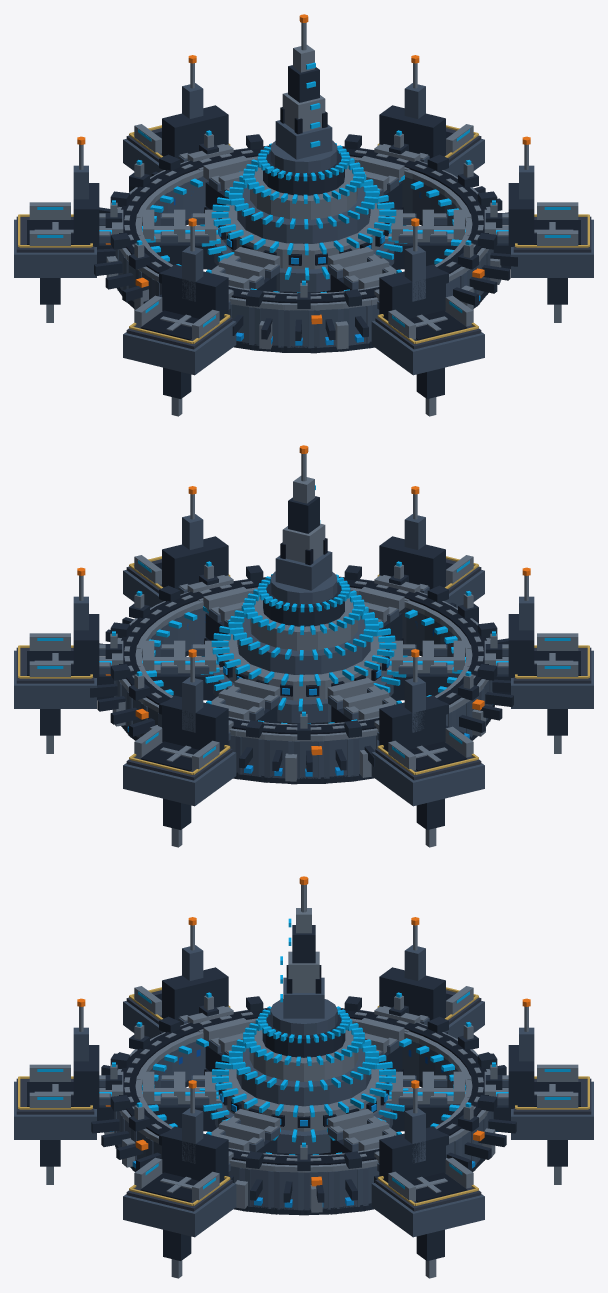
Rendered from Exoterium_Station_Detailed_120.obj.
3 views of the same model, one above another, from view 1: azimuth 30°, elevation 25°; view 2: azimuth 150°, elevation 25°; view 3: azimuth 270°, elevation 25° (orthographic).
Parts seen in each view (by area): view 1: StationPart_0745, StationPart_1045, StationPart_0503, StationPart_1054, StationPart_0754, StationPart_0504, StationPart_0874, StationPart_0934, StationPart_0502, StationPart_0985, StationPart_0805, StationPart_0505 (+45 smaller); view 2: StationPart_0925, StationPart_0985, StationPart_0503, StationPart_0994, StationPart_0934, StationPart_0504, StationPart_0754, StationPart_0814, StationPart_0502, StationPart_1045, StationPart_0865, StationPart_0707 (+44 smaller); view 3: StationPart_0805, StationPart_0865, StationPart_0503, StationPart_0814, StationPart_0874, StationPart_0504, StationPart_0994, StationPart_1054, StationPart_0502, StationPart_0745, StationPart_0925, StationPart_0505 (+44 smaller).
Part boxes in pixels (left/top/right/bottom): StationPart_0745: left=371, top=321, right=484, bottom=375; StationPart_1045: left=123, top=321, right=236, bottom=375; StationPart_0503: left=237, top=184, right=370, bottom=243; StationPart_1054: left=162, top=264, right=228, bottom=320; StationPart_0754: left=379, top=264, right=445, bottom=320; StationPart_0504: left=250, top=166, right=357, bottom=219; StationPart_0874: left=379, top=105, right=445, bottom=158; StationPart_0934: left=162, top=105, right=228, bottom=158; StationPart_0502: left=222, top=202, right=385, bottom=269; StationPart_0985: left=14, top=219, right=96, bottom=277; StationPart_0805: left=511, top=219, right=593, bottom=277; StationPart_0505: left=263, top=150, right=344, bottom=195; StationPart_0925: left=123, top=752, right=236, bottom=806; StationPart_0985: left=371, top=752, right=484, bottom=806; StationPart_0503: left=237, top=615, right=370, bottom=674; StationPart_0994: left=379, top=695, right=445, bottom=751; StationPart_0934: left=162, top=695, right=228, bottom=751; StationPart_0504: left=250, top=597, right=357, bottom=650; StationPart_0754: left=379, top=536, right=445, bottom=589; StationPart_0814: left=162, top=536, right=228, bottom=589; StationPart_0502: left=222, top=633, right=385, bottom=700; StationPart_1045: left=511, top=650, right=593, bottom=708; StationPart_0865: left=14, top=650, right=96, bottom=708; StationPart_0707: left=275, top=551, right=332, bottom=590; StationPart_0805: left=123, top=1183, right=236, bottom=1237; StationPart_0865: left=371, top=1183, right=484, bottom=1237; StationPart_0503: left=236, top=1048, right=371, bottom=1106; StationPart_0814: left=162, top=1126, right=228, bottom=1182; StationPart_0874: left=379, top=1126, right=445, bottom=1182; StationPart_0504: left=249, top=1030, right=358, bottom=1081; StationPart_0994: left=379, top=967, right=445, bottom=1020; StationPart_1054: left=162, top=967, right=228, bottom=1020; StationPart_0502: left=222, top=1063, right=385, bottom=1131; StationPart_0745: left=14, top=1081, right=96, bottom=1139; StationPart_0925: left=511, top=1081, right=593, bottom=1139; StationPart_0505: left=262, top=1014, right=345, bottom=1057.
Bounding box in the file's own units: 105 × 65.05 × 112.
